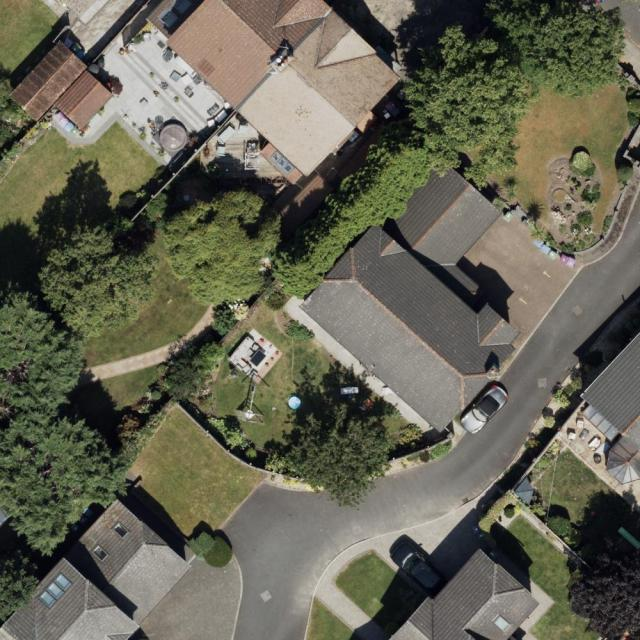roof: (300, 158, 520, 433), (146, 0, 402, 185), (0, 499, 194, 640), (389, 547, 539, 640), (8, 40, 114, 130), (580, 331, 640, 485)
skylight: (491, 613, 511, 633), (158, 8, 179, 27), (112, 520, 131, 541), (91, 543, 110, 563), (170, 0, 193, 13), (270, 151, 282, 163), (277, 157, 289, 168), (283, 164, 294, 173)
